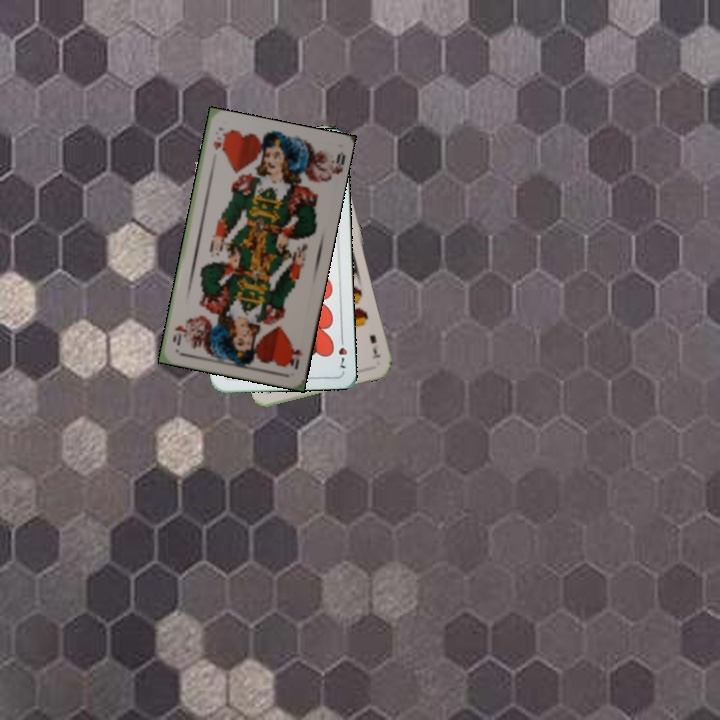E7: (366, 330, 383, 361)
H7: (334, 332, 350, 371)
HO: (284, 340, 306, 372), (209, 128, 228, 153)
